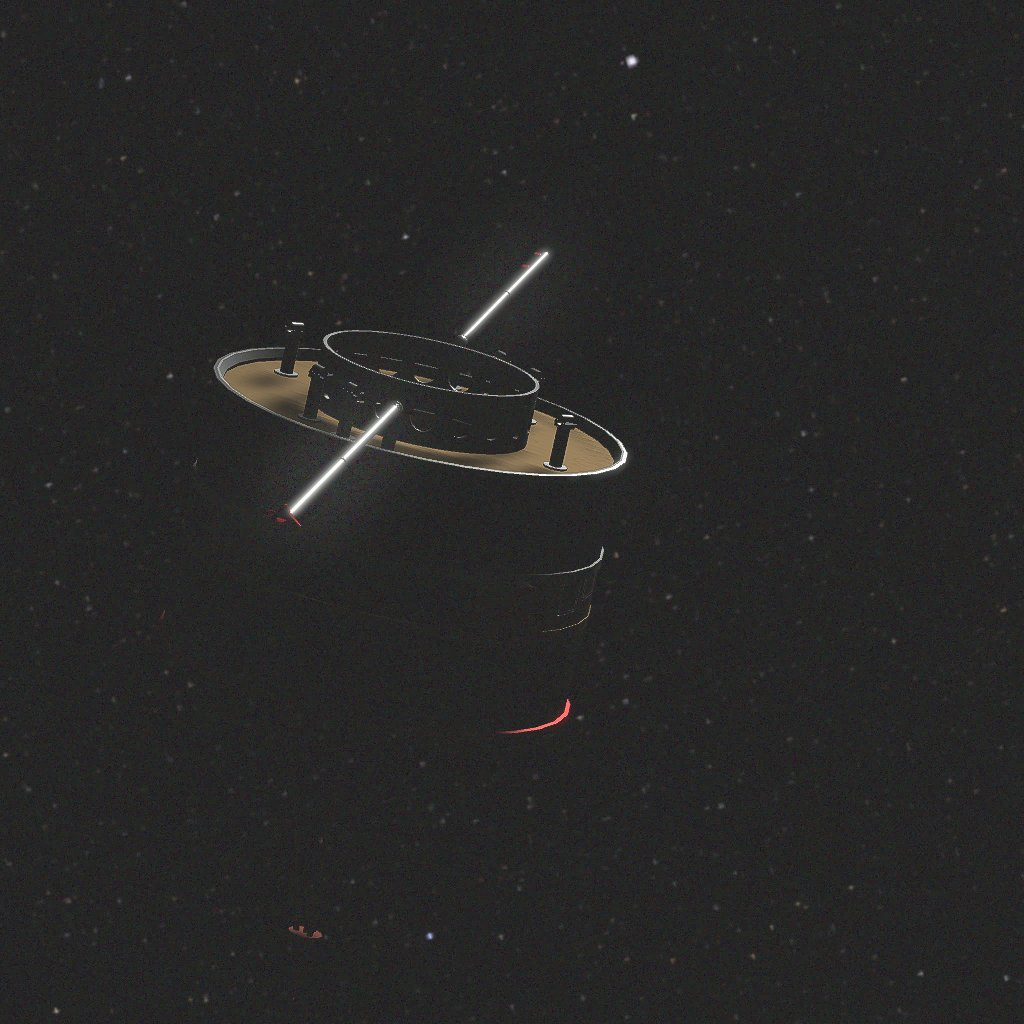double_star: (158, 251, 628, 1024)
